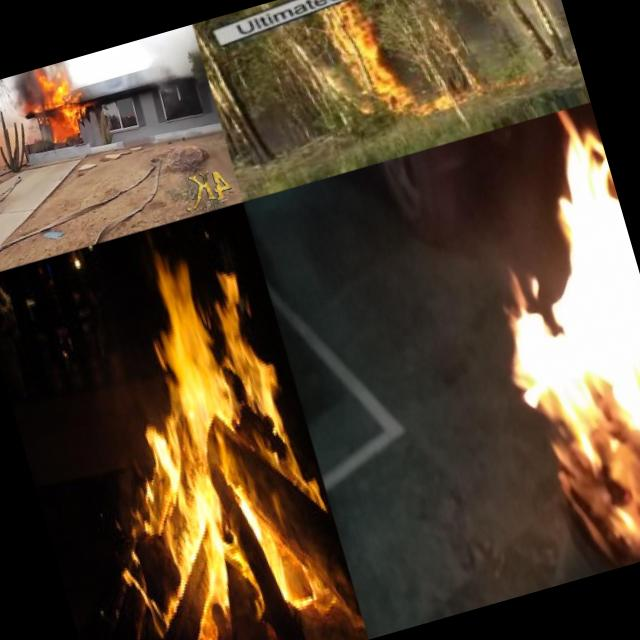fire: (81, 246, 354, 640), (449, 101, 640, 580), (323, 0, 454, 134), (37, 70, 87, 136)
smoke: (9, 60, 70, 86)
